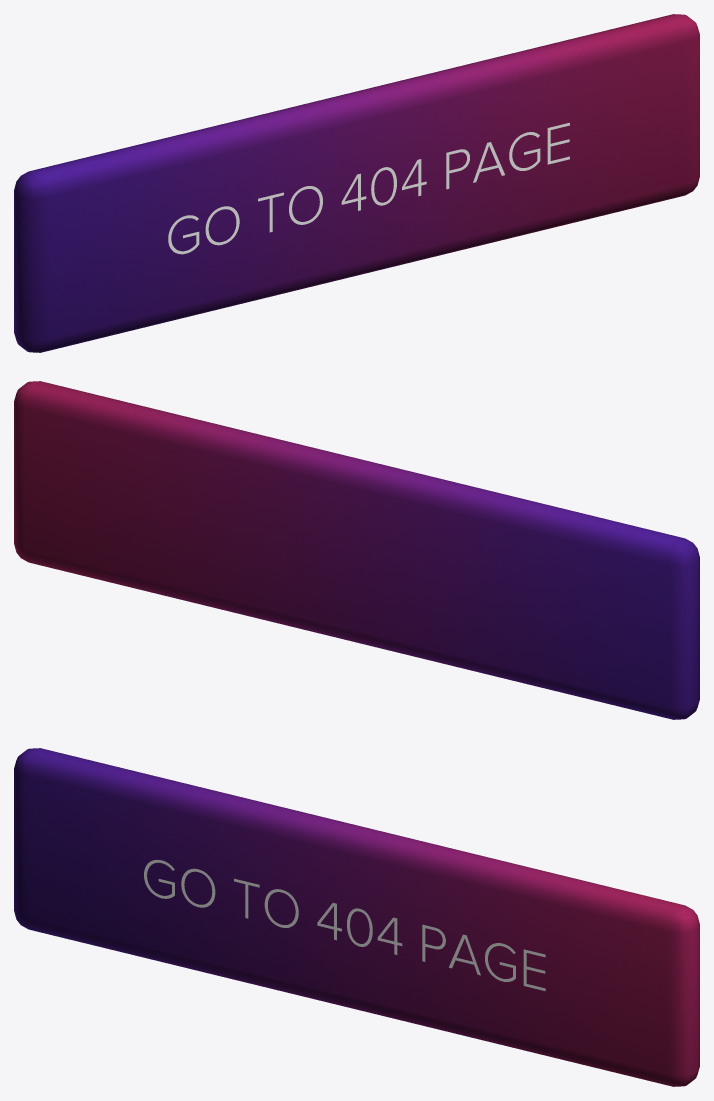
Rendered from button_404.glb.
3 views of the same model, one above another, from view 1: azimuth 30°, elevation 25°; view 2: azimuth 150°, elevation 25°; view 3: azimuth 330°, elevation 25° (orthographic).
Parts seen in each view (by area): view 1: button, button_404; view 2: button; view 3: button, button_404.
Boxes of the visible parts, x1,y1,x2,y2 form: button: (14,14,699,352); button_404: (168,122,569,254); button: (14,381,699,719); button: (14,748,699,1086); button_404: (144,860,545,991).
Size of the model in its own units: 0.4 by 0.1 by 0.0224.
Materials: 2 (1 with a texture image).
